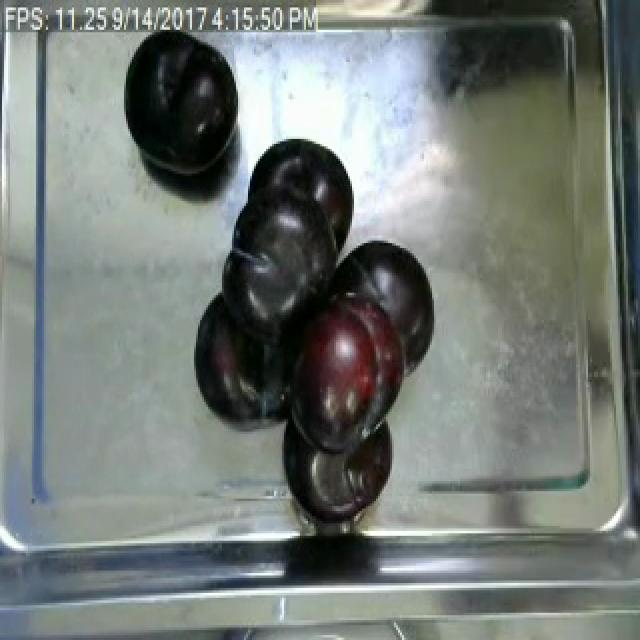Fruit: (276, 280, 412, 462), (232, 129, 364, 295), (118, 25, 246, 186)
